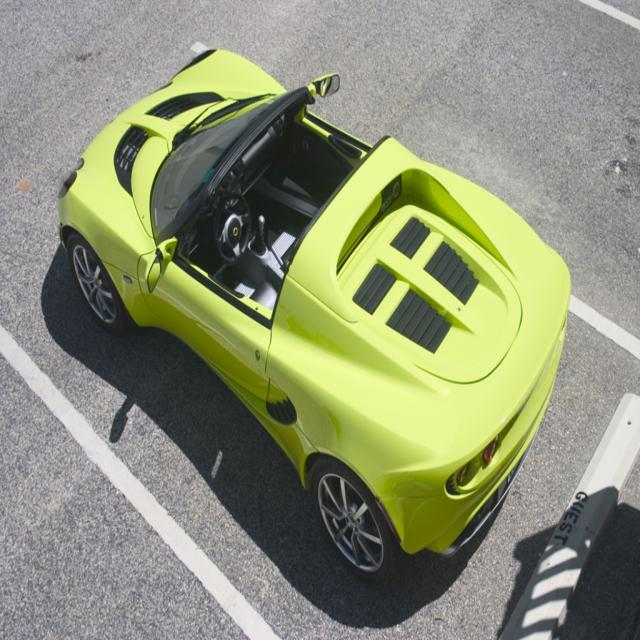car: (55, 46, 573, 579)
